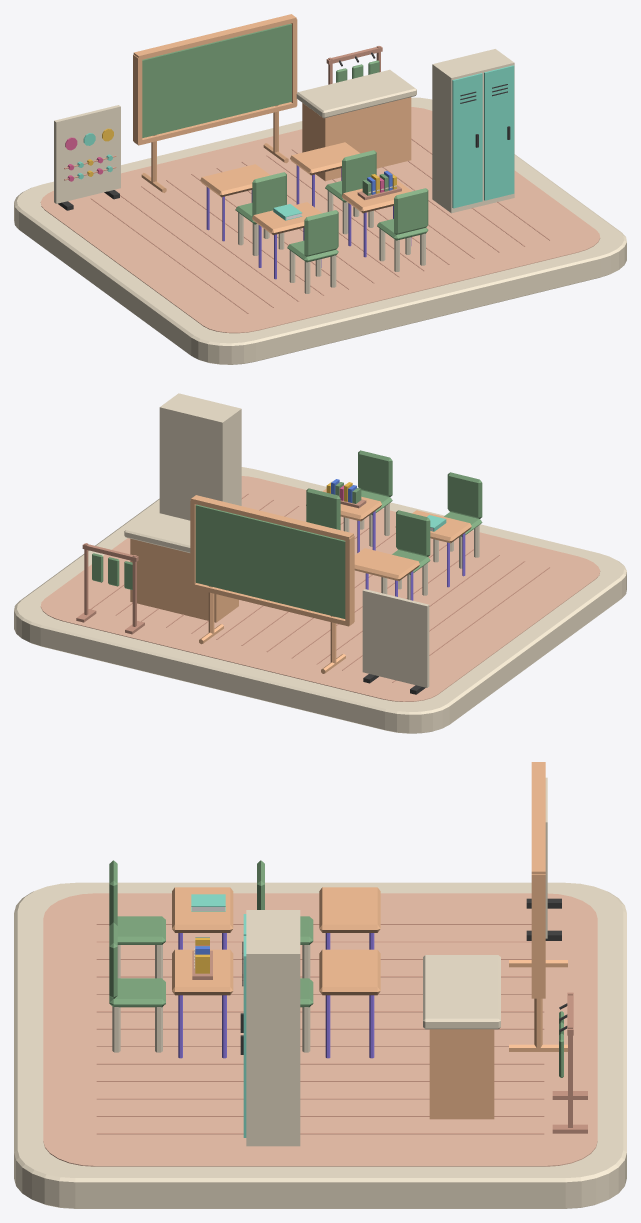
3 views of the same model, one above another, from view 1: azimuth 30°, elevation 25°; view 2: azimuth 150°, elevation 25°; view 3: azimuth 270°, elevation 25° (orthographic). The views are drawn at different scales.
Parts seen in each view (by area): view 1: COM-02 Floor Surface, COM-01 Rounded Base Direct, Board, Desk body, Panel, Case, Door.001, Door, Desk top, Rail.001, Backrest, Backrest.001 (+9 smaller); view 2: COM-02 Floor Surface, COM-01 Rounded Base Direct, Board, Case, Panel, Desk body, Desk top, Rail.001, Backrest, Rounded table top.002, Backrest.001, Backrest.002 (+6 smaller); view 3: COM-02 Floor Surface, COM-01 Rounded Base Direct, Case, Desk body, Desk top, Rounded table top.003, Rounded table top.002, Rounded table top, Rounded table top.001, Frame.001, Rail.001, Seat.001 (+6 smaller).
Part boxes in pixels (x1,y1,x2,y2): COM-02 Floor Surface: (40,107,600,333); COM-01 Rounded Base Direct: (14,97,626,364); Board: (142,23,291,137); Desk body: (302,97,411,181); Panel: (54,105,120,203); Case: (432,49,514,213); Door.001: (484,65,514,200); Door: (452,73,482,208); Desk top: (296,69,416,118); Rail.001: (133,14,296,60); Backrest: (304,210,338,256); Backrest.001: (394,188,428,234); COM-02 Floor Surface: (40,476,600,701); COM-01 Rounded Base Direct: (14,467,626,733); Board: (195,504,345,618); Case: (159,393,241,520); Panel: (362,589,429,687); Desk body: (130,538,238,622); Desk top: (124,511,190,552); Rail.001: (191,495,353,540); Backrest: (447,472,482,518); Rounded table top.002: (354,548,419,580); Backrest.001: (358,450,392,496); Backrest.002: (396,510,430,556); COM-02 Floor Surface: (43,893,597,1166); COM-01 Rounded Base Direct: (14,882,626,1208); Case: (246,910,300,1146); Desk body: (429,1029,494,1119); Desk top: (423,955,500,1029); Rounded table top.003: (319,949,380,995); Rounded table top.002: (319,887,380,932); Rounded table top: (172,887,233,932); Rounded table top.001: (172,949,233,995); Frame.001: (531,874,545,997); Rail.001: (531,762,545,874); Seat.001: (109,978,165,1007).
Size of the model in its own units: 6 by 2.1 by 5.2.
Materials: 1 (1 with a texture image).
